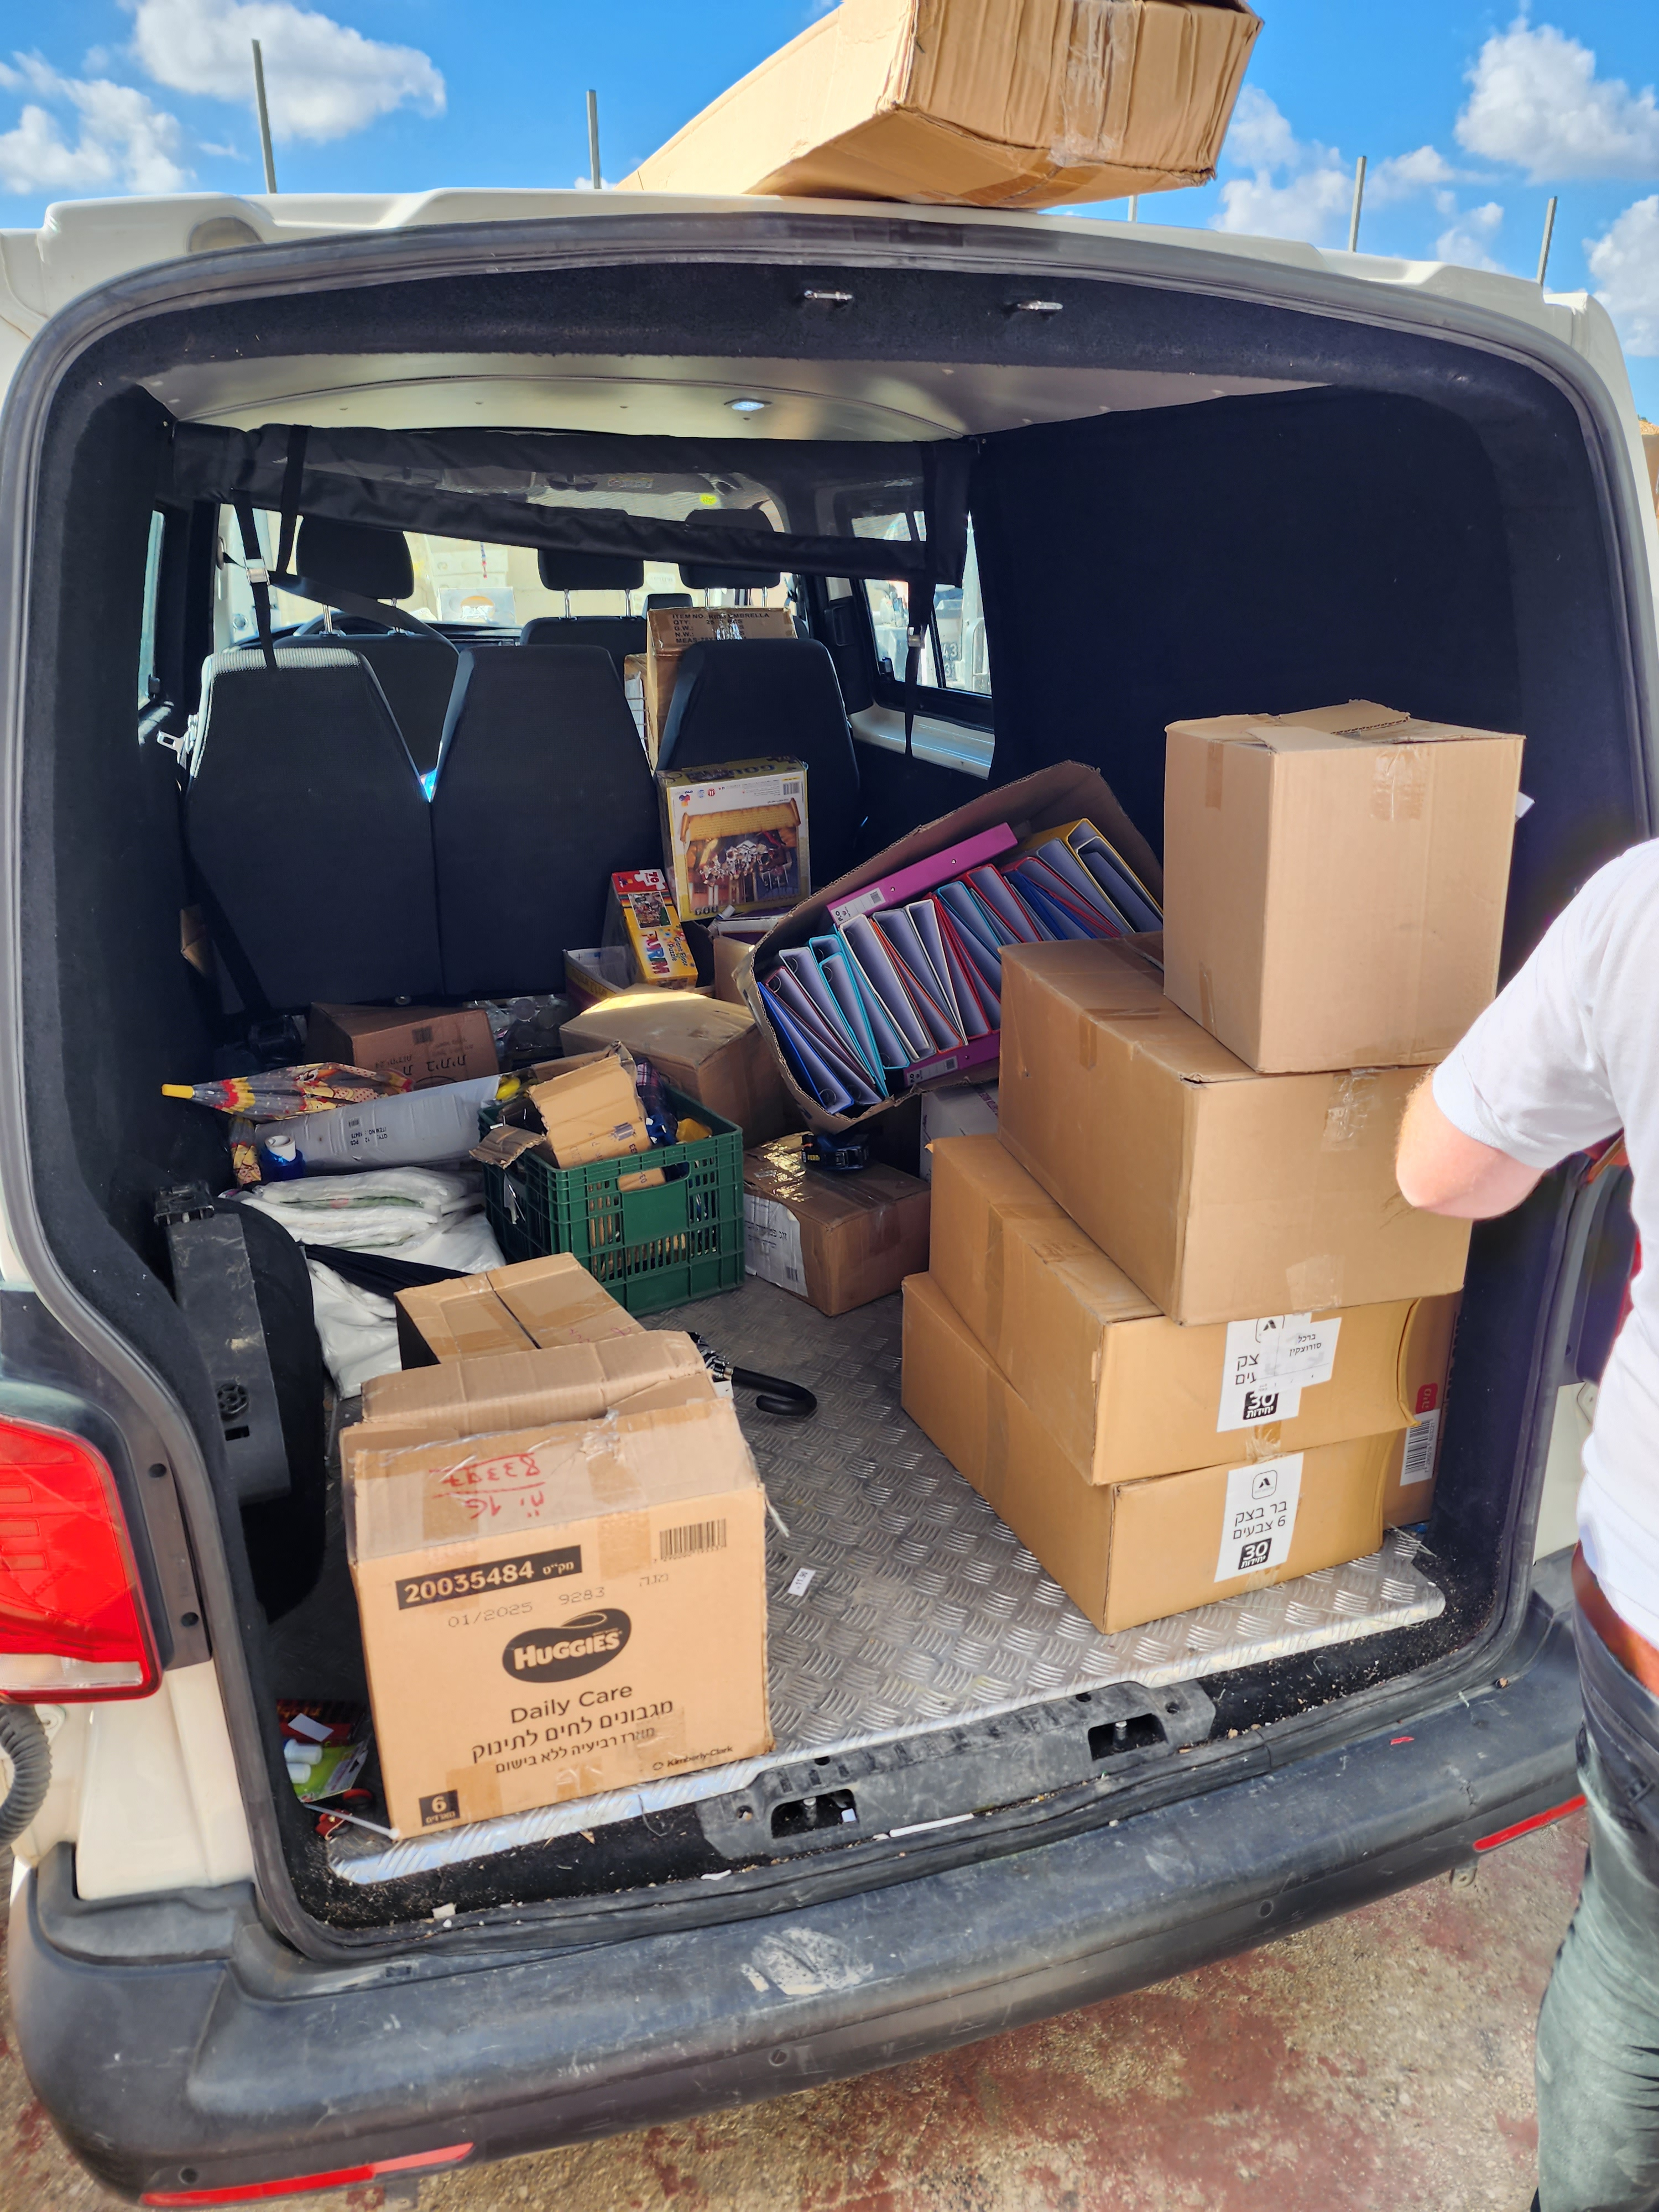box: (328, 1331, 877, 1838), (981, 900, 1521, 1346), (929, 1111, 1495, 1484), (887, 1275, 1413, 1630), (1157, 660, 1507, 1092), (648, 765, 831, 927)
